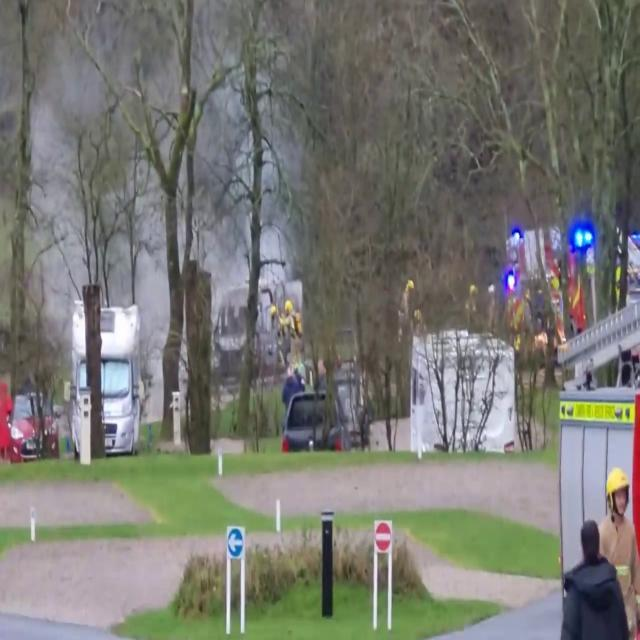Smoke: (0, 1, 301, 349)
